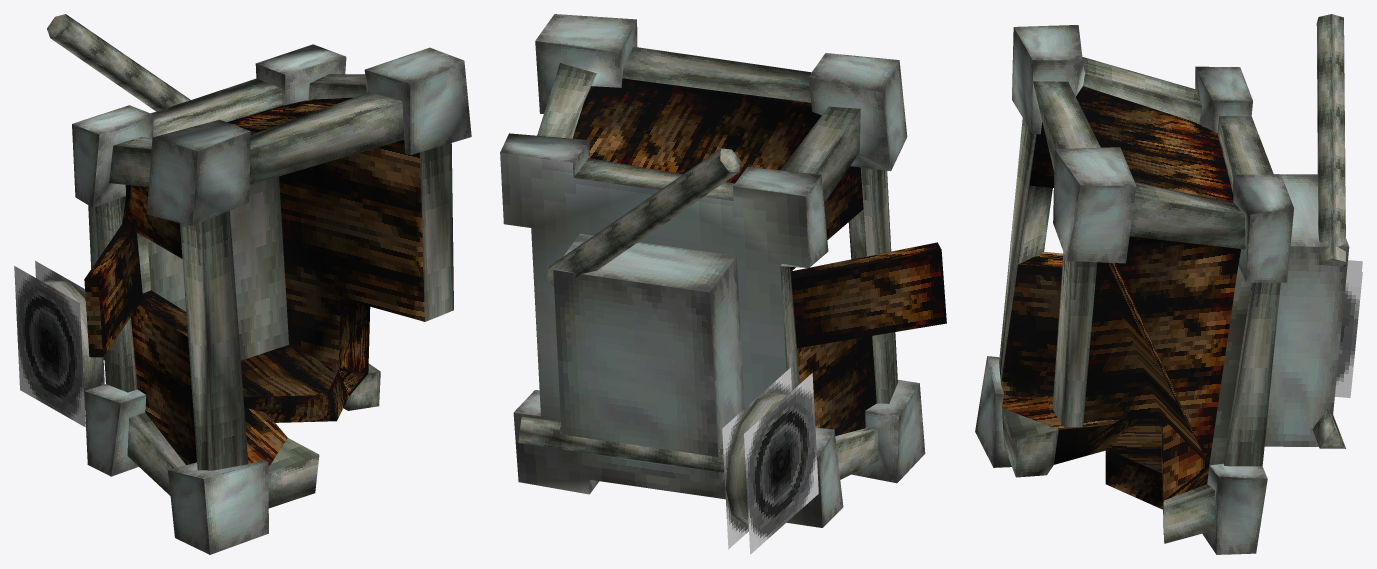
The model's file is INST_SWORDLIGHT_MINECARTBROKE.fbx.
The picture shows the model from 3 angles, left to right: view 1: azimuth 30°, elevation 25°; view 2: azimuth 150°, elevation 25°; view 3: azimuth 270°, elevation 25°; orthographic projection. The views are drawn at different scales.
Parts seen in each view (by area): view 1: INST_SWORDLIGHT_MINECARTBROKE; view 2: INST_SWORDLIGHT_MINECARTBROKE; view 3: INST_SWORDLIGHT_MINECARTBROKE.
Boxes of the visible parts, x1=… form: INST_SWORDLIGHT_MINECARTBROKE: x1=14, y1=14, x2=471, y2=554; INST_SWORDLIGHT_MINECARTBROKE: x1=500, y1=14, x2=946, y2=554; INST_SWORDLIGHT_MINECARTBROKE: x1=975, y1=14, x2=1362, y2=554.
Bounding box in the file's own units: 14331 × 15134 × 12192.
Materials: 4 (4 with a texture image).
